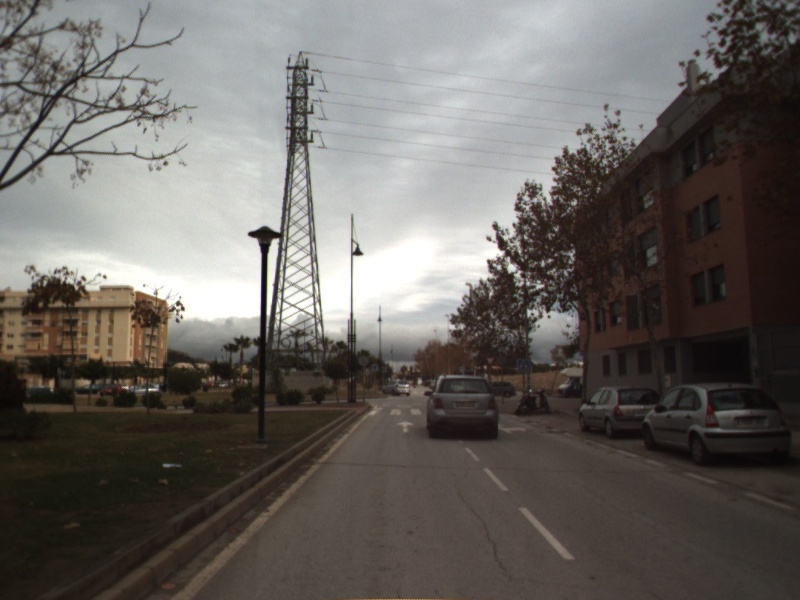STRAIGHT: (396, 418, 416, 434)
STRAIGHT_RIGHT: (497, 422, 527, 435)
